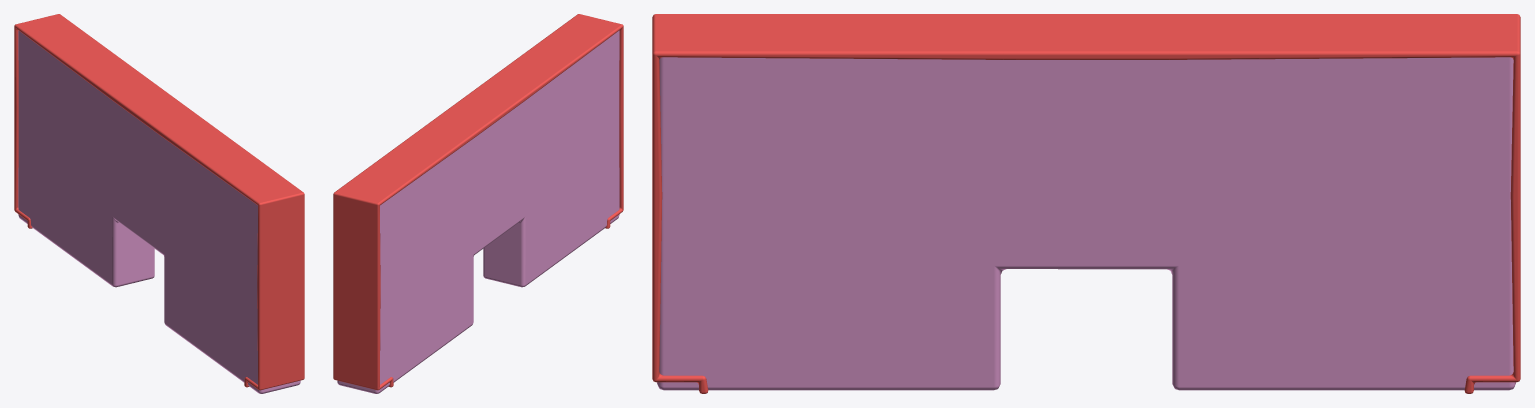
The model's file is wall3.fbx.
3 renders of one model, left to right at view 1: azimuth 30°, elevation 25°; view 2: azimuth 150°, elevation 25°; view 3: azimuth 270°, elevation 25°, orthographic. The views are drawn at different scales.
Visible parts, largest first — view 1: wallInside.002, wallOutside.002; view 2: wallInside.002, wallOutside.002; view 3: wallInside.002, wallOutside.002.
Part boxes in pixels (x1,y1,x2,y2): wallInside.002: (18, 30, 300, 393); wallOutside.002: (14, 14, 304, 390); wallInside.002: (337, 30, 619, 393); wallOutside.002: (333, 14, 623, 390); wallInside.002: (657, 57, 1515, 390); wallOutside.002: (652, 14, 1520, 393).
Size of the model in its own units: 218 by 878 by 2014.
